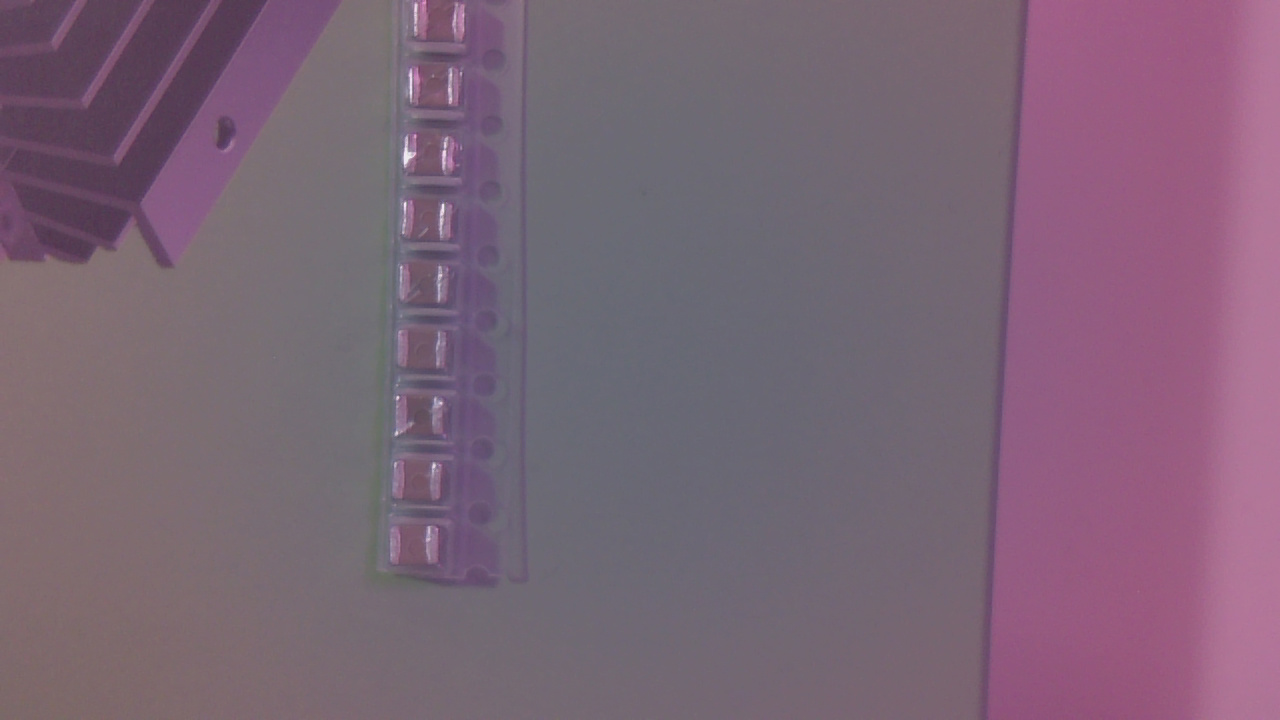Condensator: (395, 463, 455, 509), (413, 68, 469, 117), (404, 266, 460, 312), (401, 399, 456, 445), (408, 136, 462, 178), (404, 201, 459, 242), (394, 530, 444, 575), (403, 334, 455, 376), (418, 6, 473, 44)
